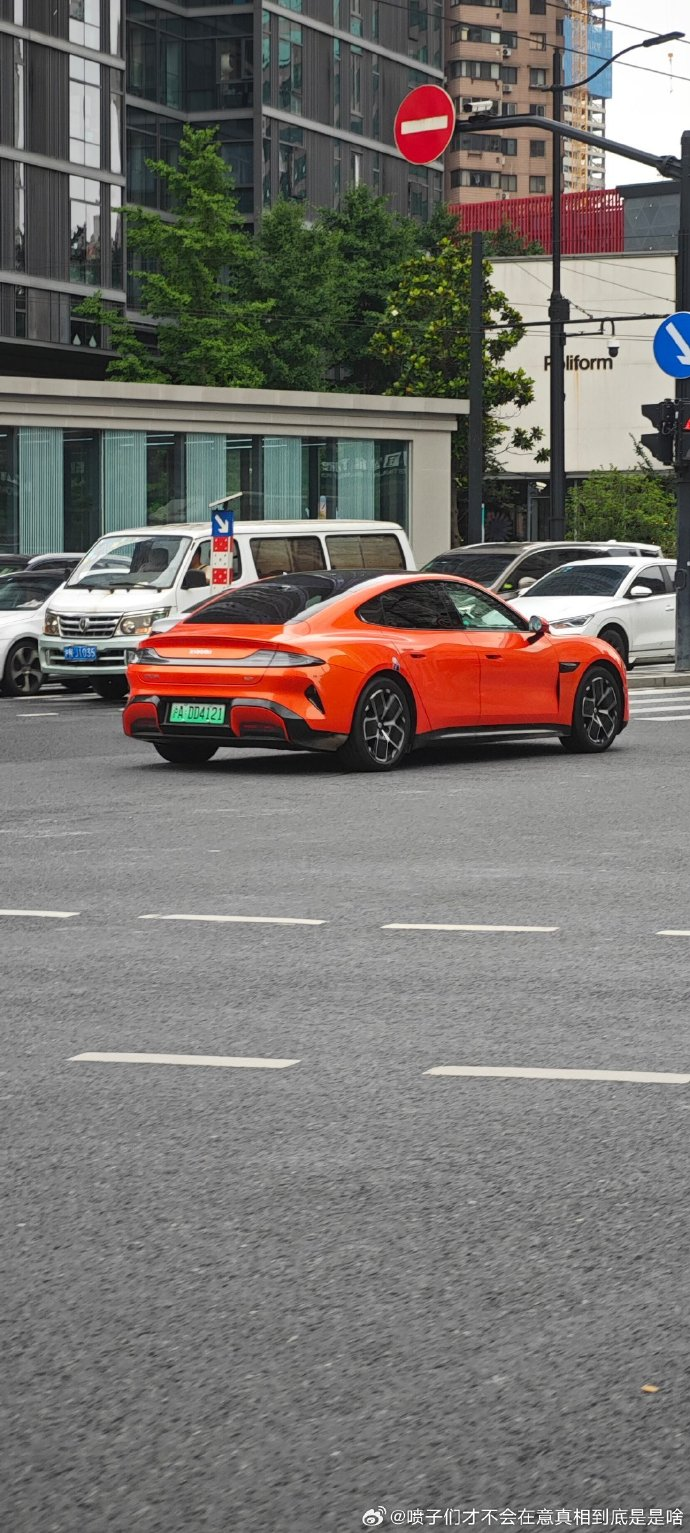other: (50, 512, 252, 688), (497, 546, 690, 664)
su7: (131, 571, 636, 764)
